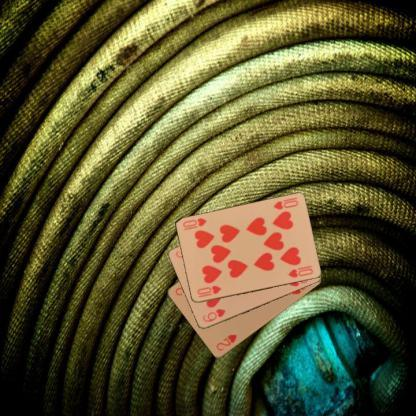10h: (195, 283, 222, 299), (270, 197, 300, 211)
2h: (214, 332, 238, 352)
6h: (199, 306, 226, 324)
